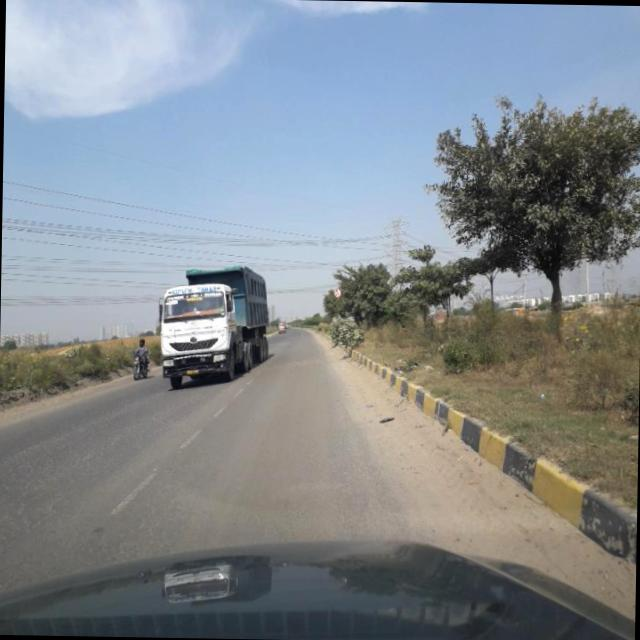crack: (0, 416, 160, 541)
